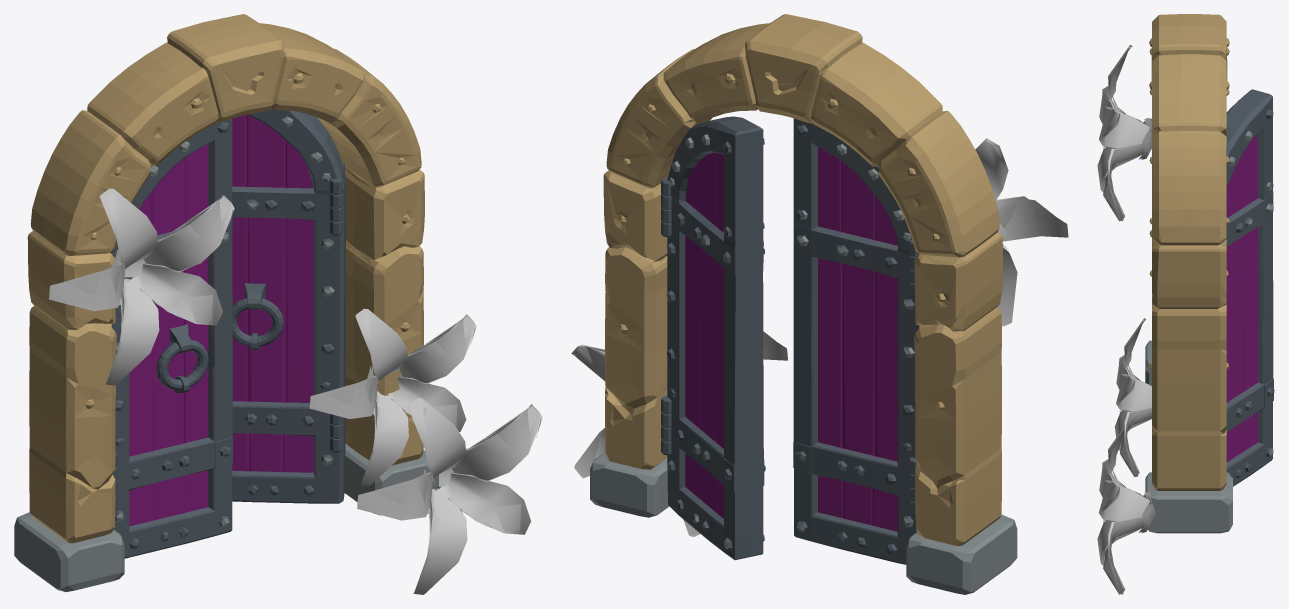
Rendered from romcom_door.glb.
The picture shows the model from 3 angles, left to right: view 1: azimuth 30°, elevation 25°; view 2: azimuth 150°, elevation 25°; view 3: azimuth 270°, elevation 25°; orthographic projection. The views are drawn at different scales.
Parts seen in each view (by area): view 1: goldstone-material, metal-material, wood-material, Object_2.003, Object_2.001, Object_2.002, stone-material; view 2: goldstone-material, metal-material, wood-material, stone-material, Object_2.003, Object_2.001; view 3: goldstone-material, metal-material, wood-material, stone-material, Object_2.001, Object_2.003, Object_2.002.
Part boxes in pixels (<box>): goldstone-material: <box>27,14,424,543</box>; metal-material: <box>110,108,346,558</box>; wood-material: <box>129,114,313,526</box>; Object_2.003: <box>49,188,234,385</box>; Object_2.001: <box>357,398,542,594</box>; Object_2.002: <box>309,308,476,485</box>; stone-material: <box>14,116,438,591</box>; goldstone-material: <box>603,14,1002,545</box>; metal-material: <box>661,116,919,564</box>; wood-material: <box>685,147,897,531</box>; stone-material: <box>590,134,1017,594</box>; Object_2.003: <box>975,138,1068,326</box>; Object_2.001: <box>571,344,700,536</box>; goldstone-material: <box>1149,14,1229,490</box>; metal-material: <box>1226,89,1274,486</box>; wood-material: <box>1226,134,1257,462</box>; stone-material: <box>1145,131,1273,533</box>; Object_2.001: <box>1097,426,1156,594</box>; Object_2.003: <box>1097,45,1151,221</box>; Object_2.002: <box>1114,318,1151,476</box>.
Size of the model in its own units: 2.59 by 2.86 by 0.9404.
